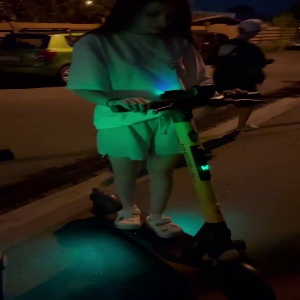human on a scooter: (59, 1, 276, 297)
